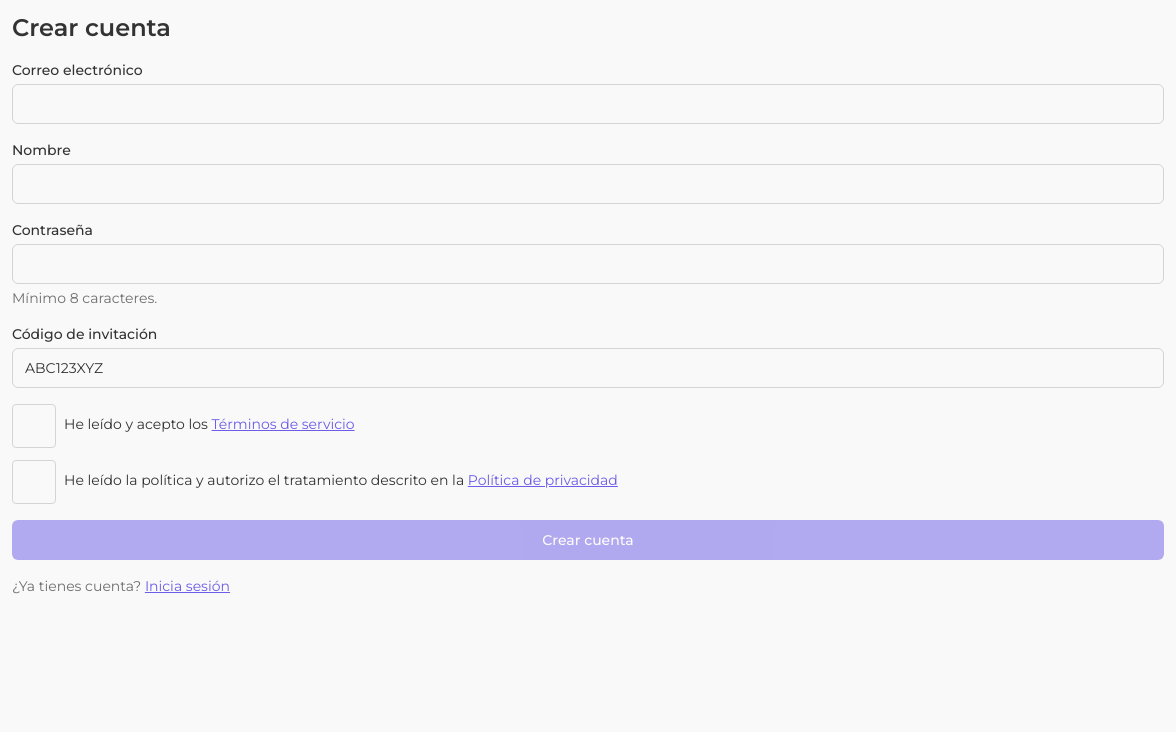
Test: RegisterForm › renders a duplicate-email error against the email field, not as a form banner
This screenshot has width=1176, height=732.
Type "ana@example.com" into the field labelled "Correo electrónico" at (588, 104), box [12,84,1164,124]
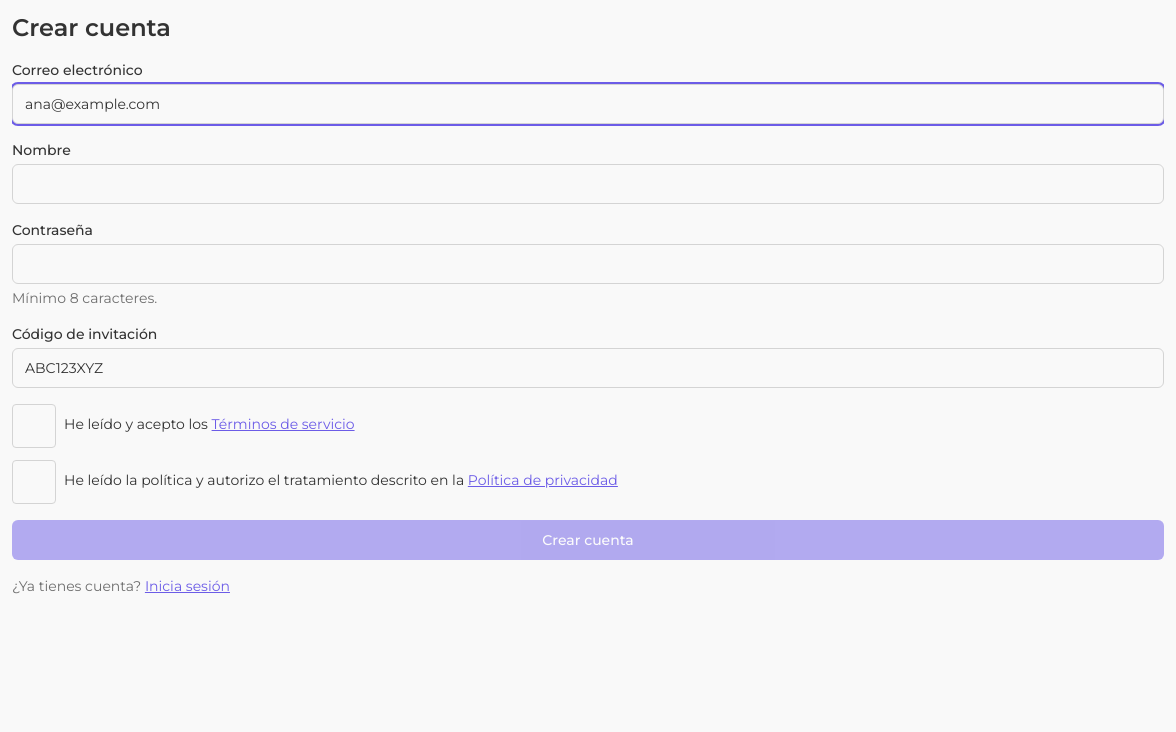
Type "Ana" into the field labelled "Nombre" at (588, 184), box [12,164,1164,204]
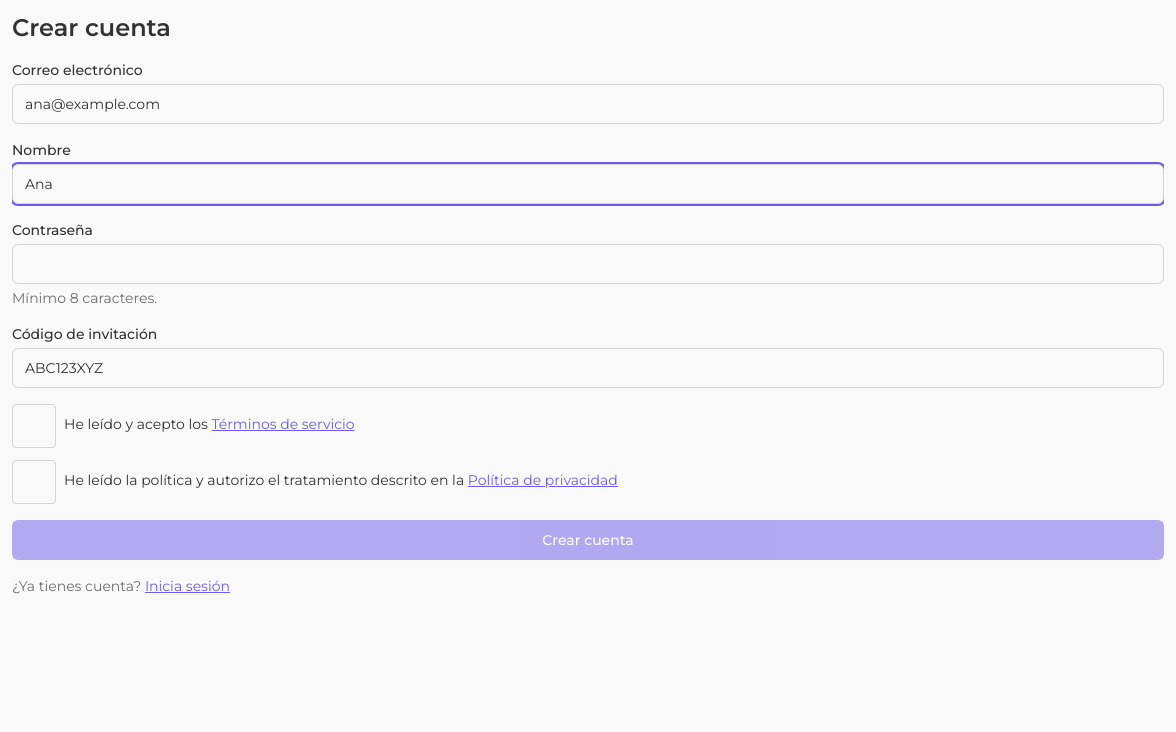
Type "correct horse battery staple" into the password field labelled "Contraseña" at (588, 264), box [12,244,1164,284]
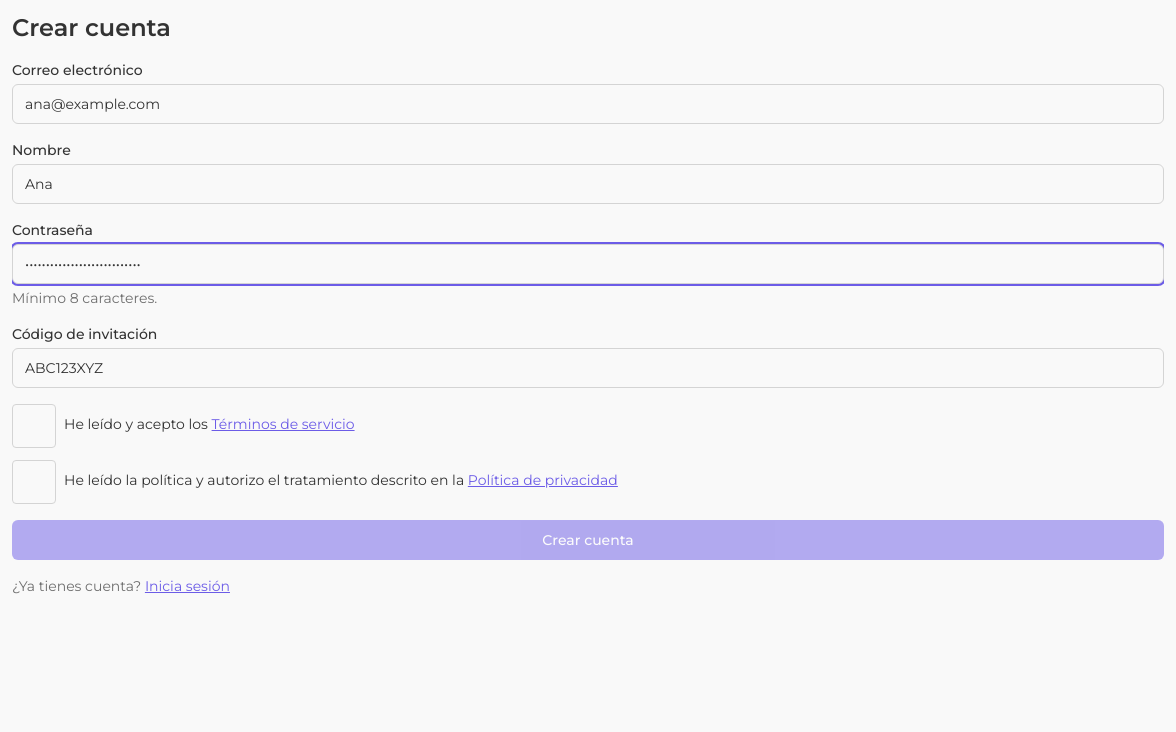
Click the checkbox named "Términos de servicio" next to "He leído y acepto los" at (34, 426), box [12,404,56,448]
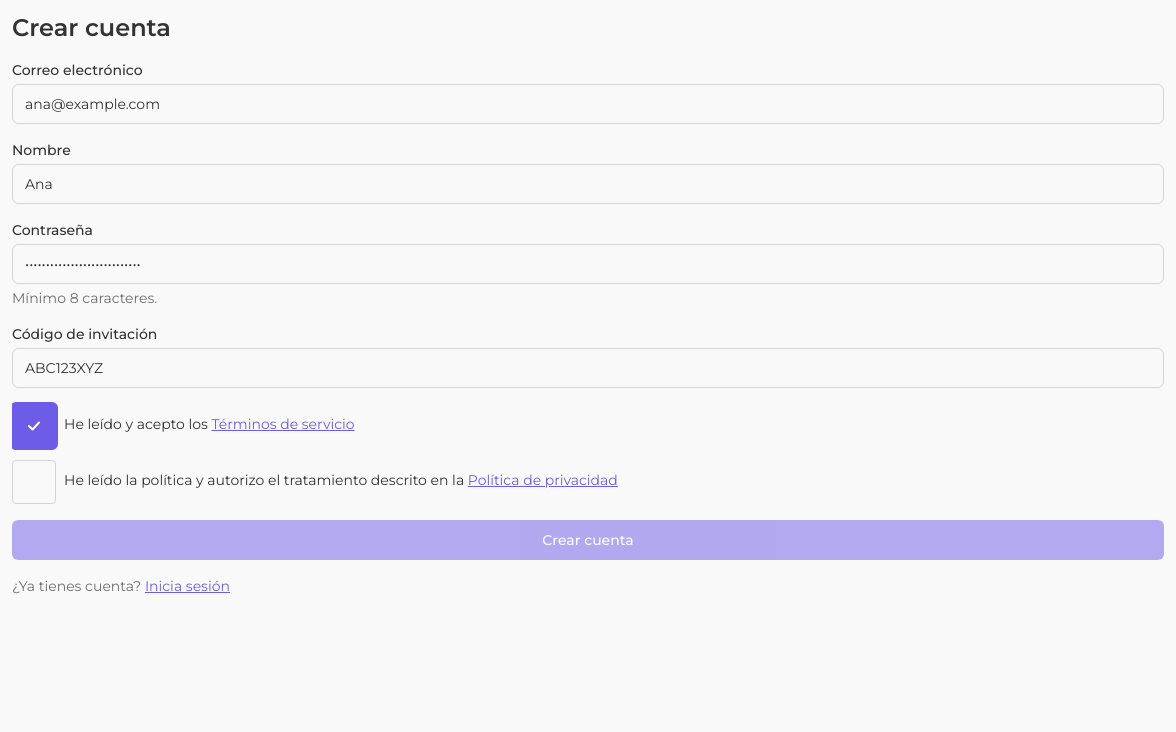
Click the checkbox named "Política de privacidad" in the row of "Política de privacidad" at (34, 482), box [12,460,56,504]
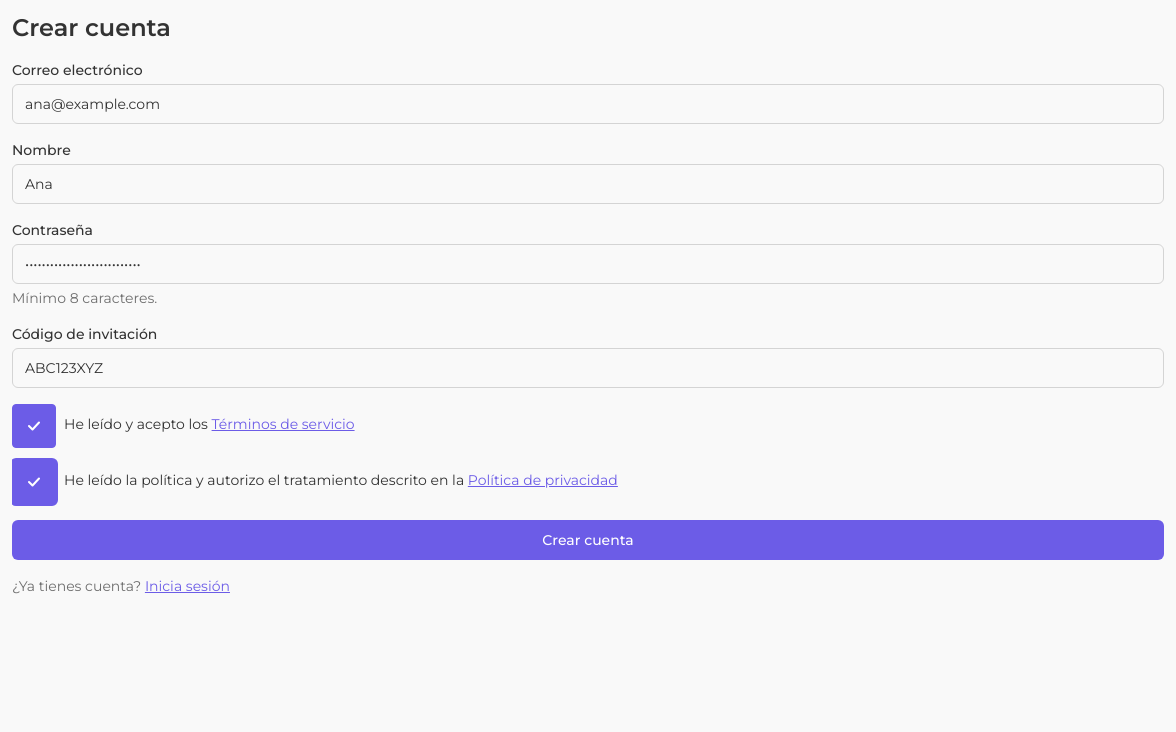
Click the button "Crear cuenta" at (588, 540), box [12,520,1164,560]
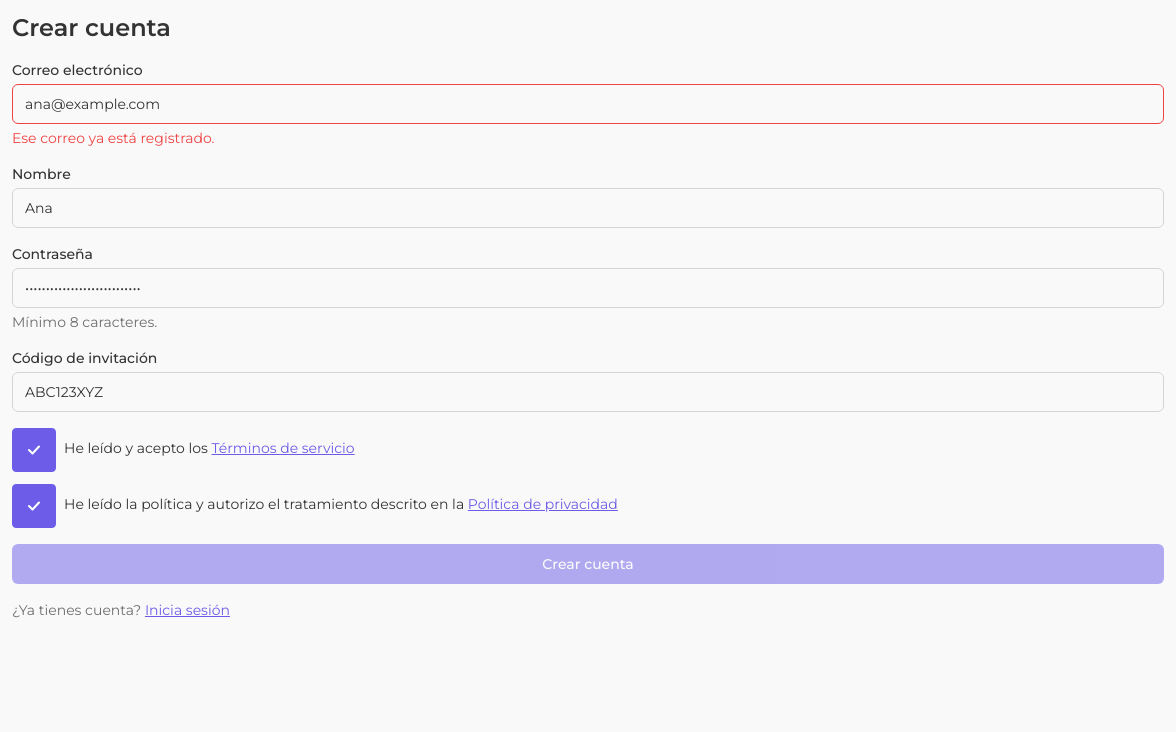
Expected: the text "Ese correo ya está registrado." is shown, [12,129,214,147]
